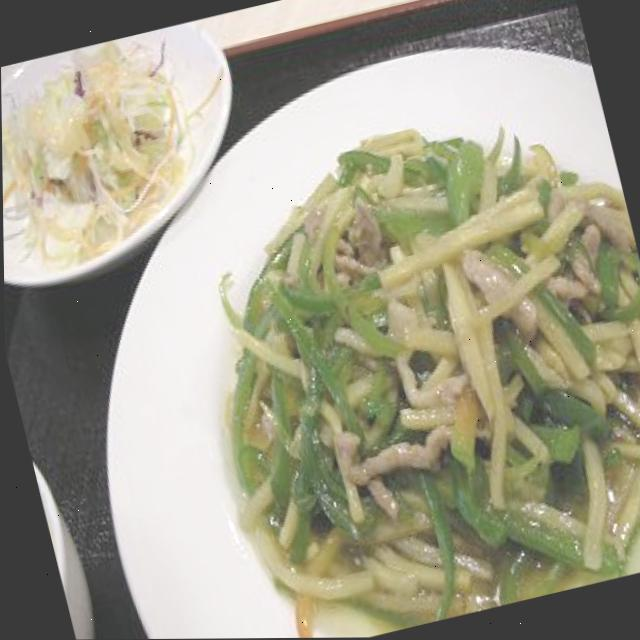牛肉菜式: (141, 66, 640, 639)
